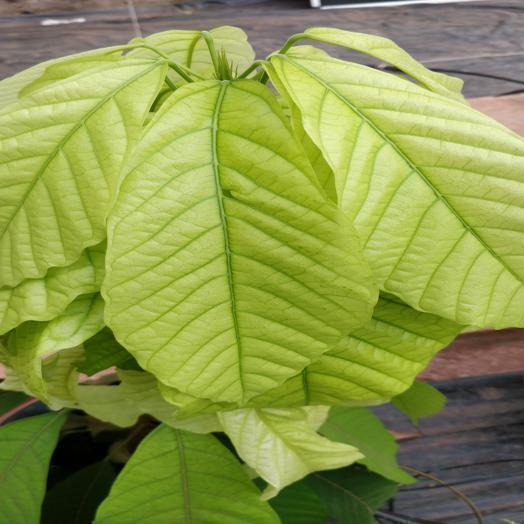Healthy Leaf: (94, 425, 278, 523), (0, 412, 65, 523)
Iron: (103, 80, 376, 400), (271, 46, 523, 326), (0, 59, 166, 286), (250, 297, 461, 406), (219, 408, 363, 499), (7, 293, 104, 400), (0, 241, 104, 334), (76, 371, 219, 432)
